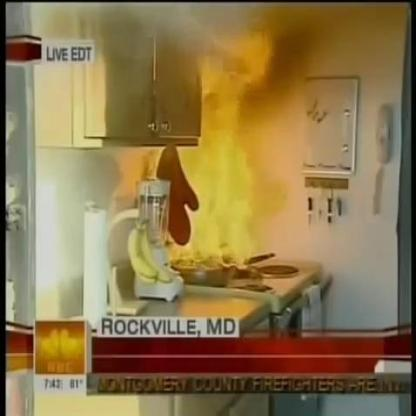fire: (136, 145, 276, 262), (204, 27, 267, 144)
